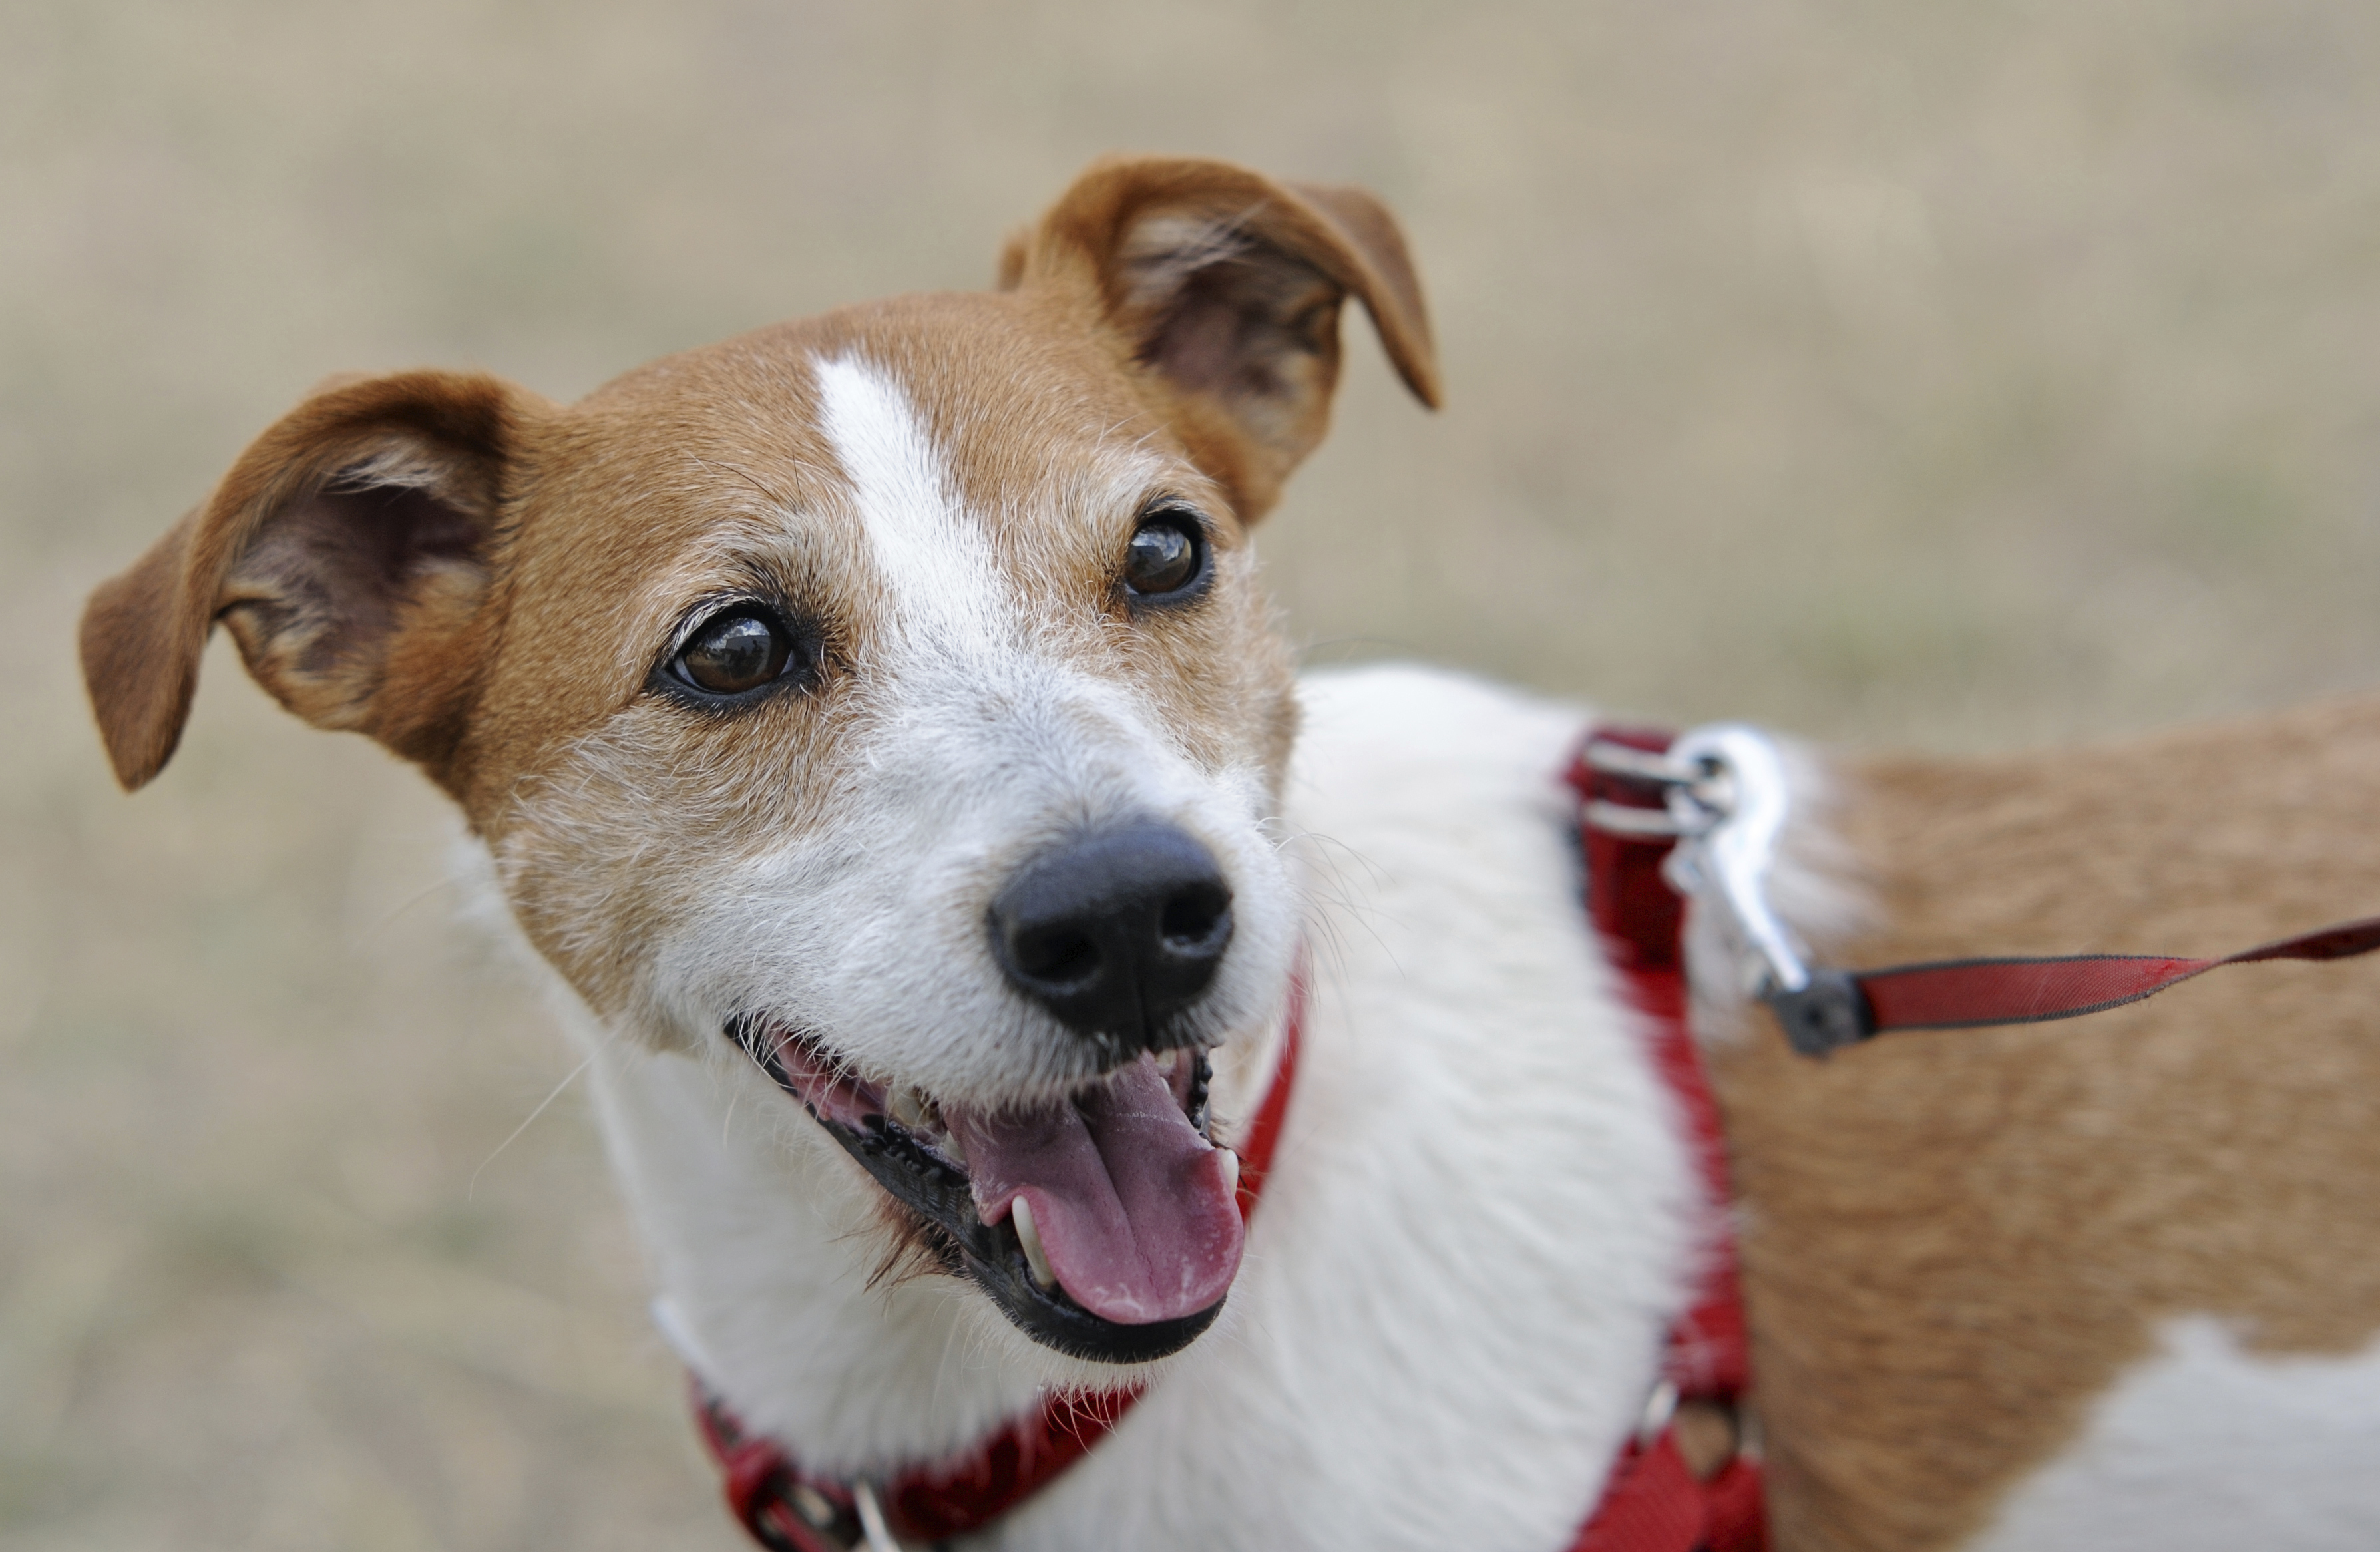dog: (0, 0, 2380, 1552)
